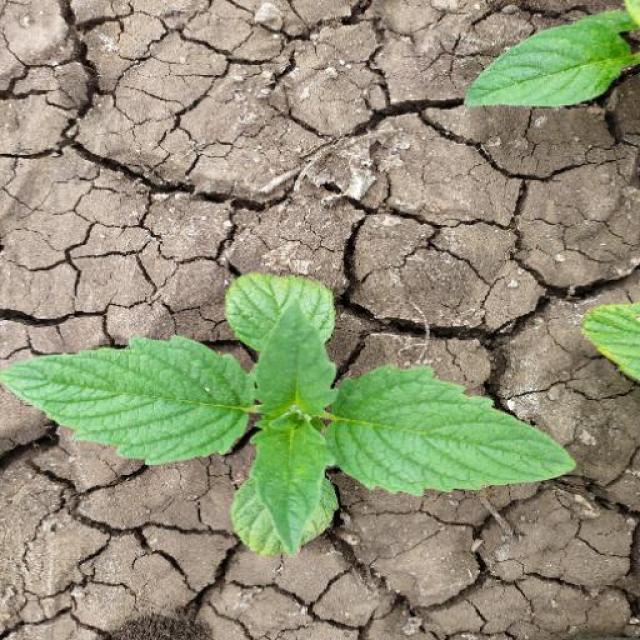crop: (1, 250, 586, 559)
